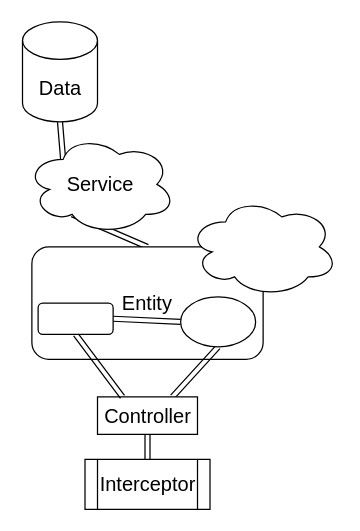
Some shapes in this 360 by 531 pixel diagram are drawn without their labels. Each missing label, with the box of its shape:
Model: (37, 302, 113, 334)
protobuf classes: (187, 196, 338, 297)
View: (179, 296, 256, 347)
